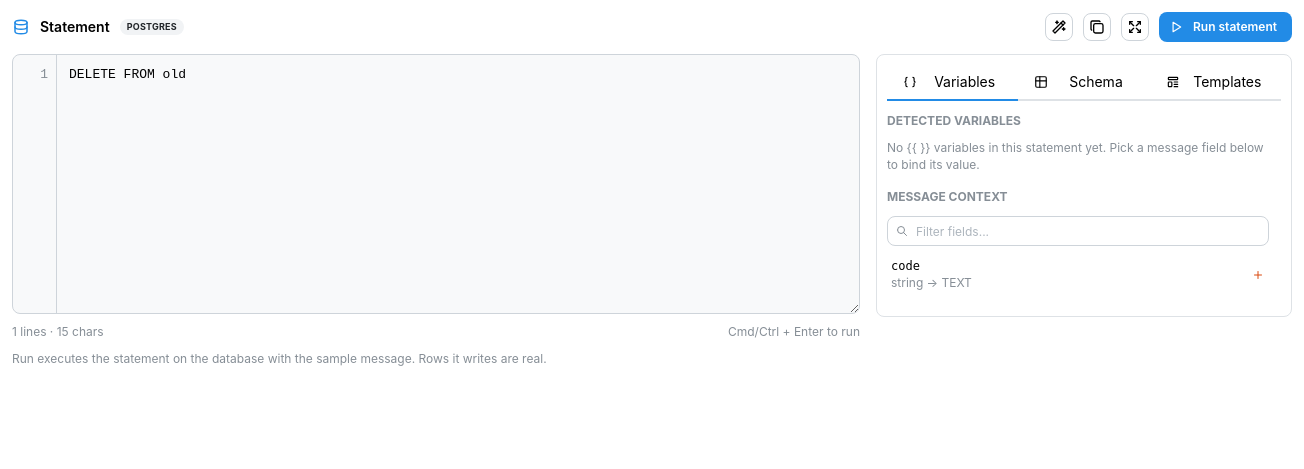
Test: SQL builder workspace › writes a template for the table opened in Schema, and can put the old statement back
Click the tab "Schema" at (1084,83), box [1018,65,1150,101]
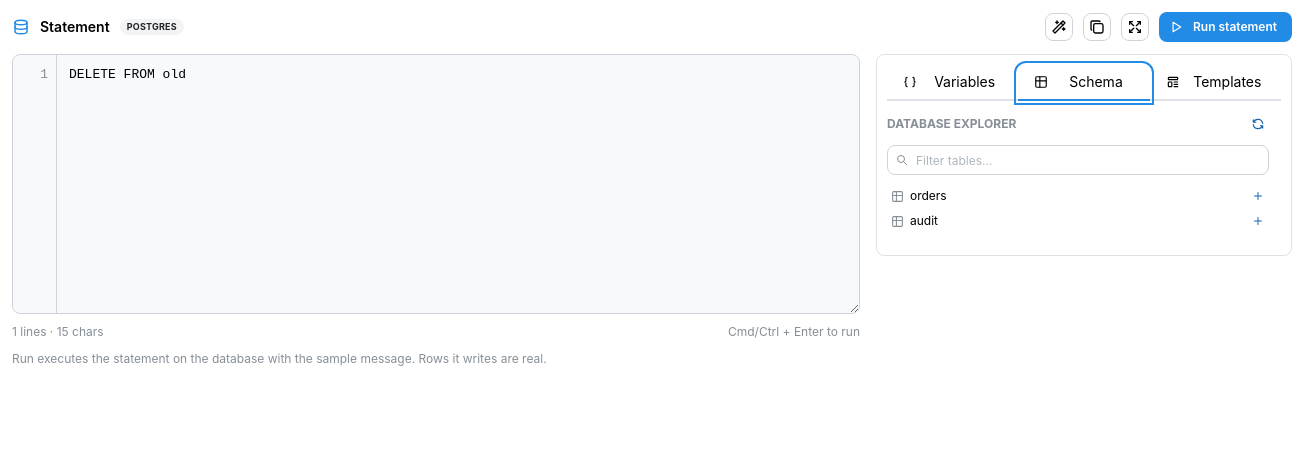
Click the button "orders" at (928,196), box [887,185,1243,208]
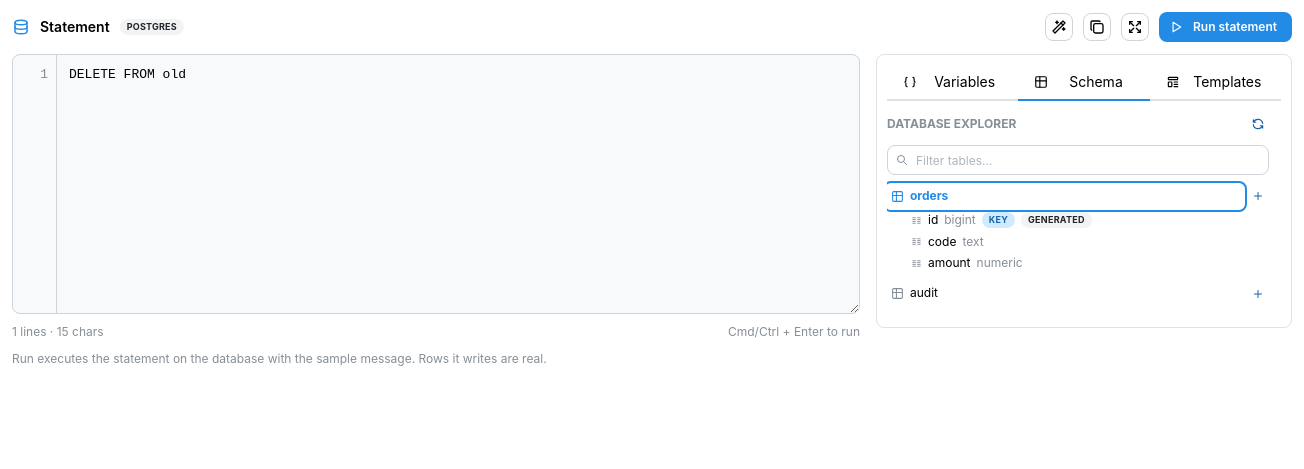
Result: the text "amount" is shown at [928,255,971,272]
Result: the text "key" is shown at [989,213,1008,227]
Click the tab "Templates" at (1215,83), box [1150,65,1281,101]
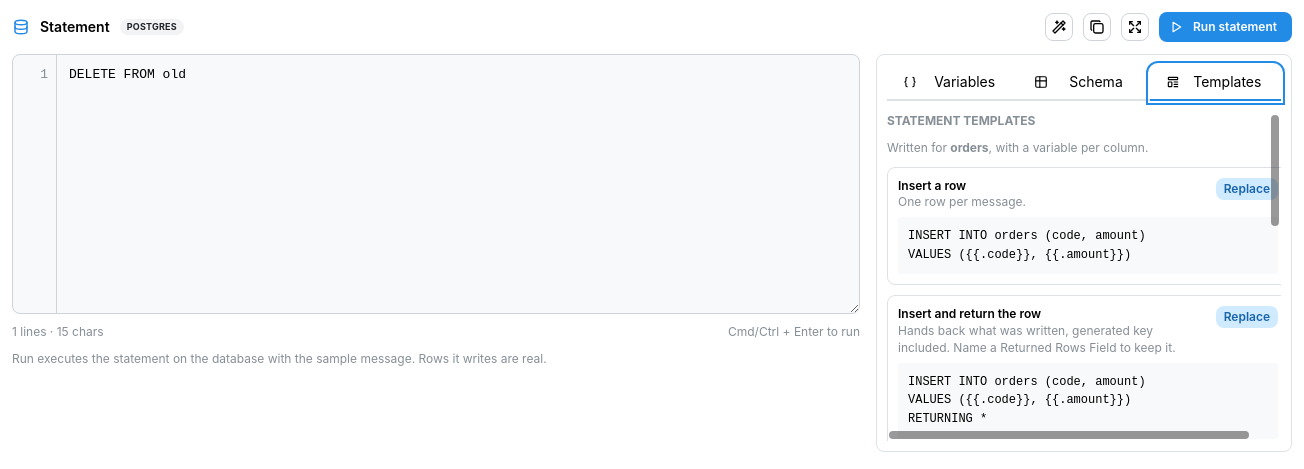
Result: the element with test id "sql-template-insert-returning" shows "INSERT INTO orders (code, amount)" at [908,375,1146,426]
// It says what the button will do to the statement that is there.
Click the button with aria-label "insert and return the row" at (1247,317), box [1216,306,1278,328]
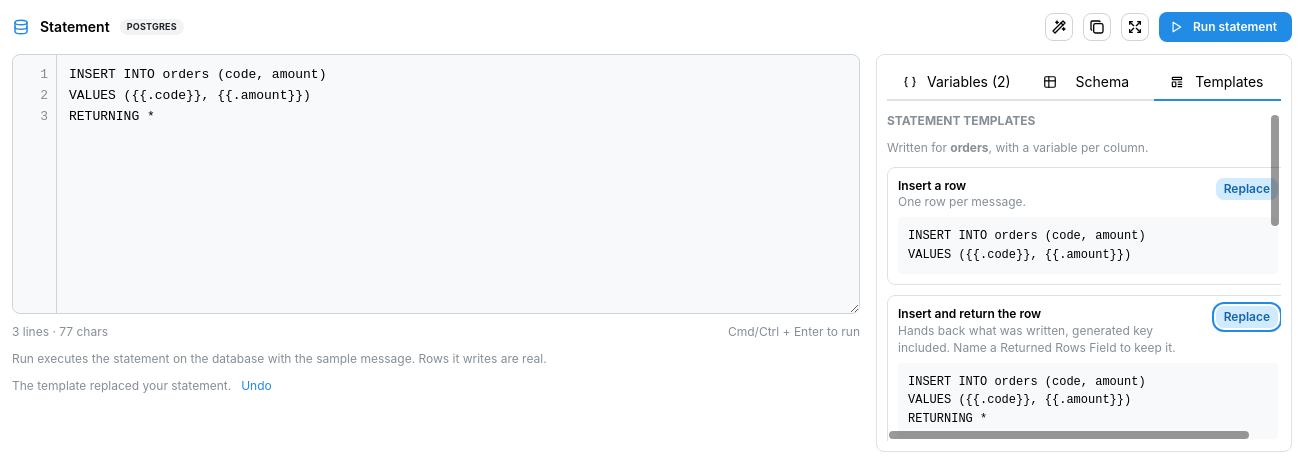
Click the button "Undo" at (256,386), box [241,378,272,394]
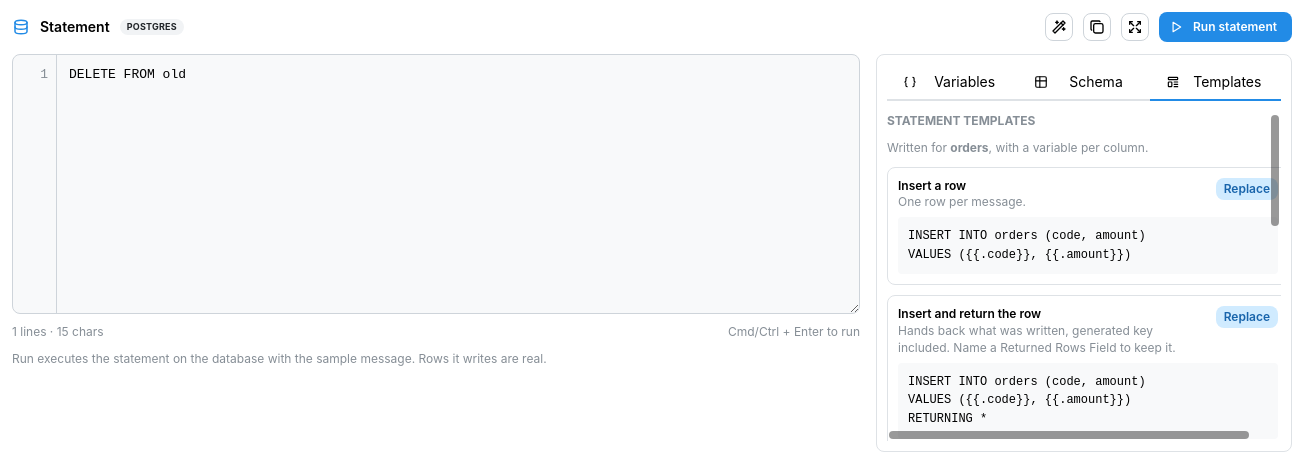
Result: the text box named "SQL statement" holds "DELETE FROM old" at [57,55,859,313]
